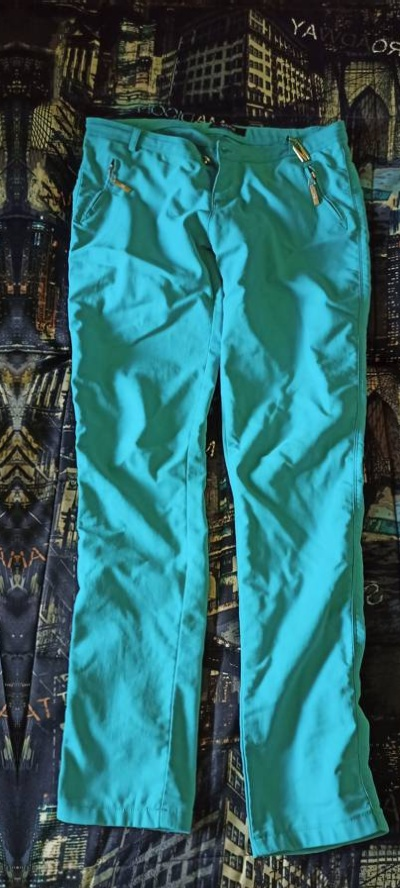Pants: (43, 91, 394, 845)
